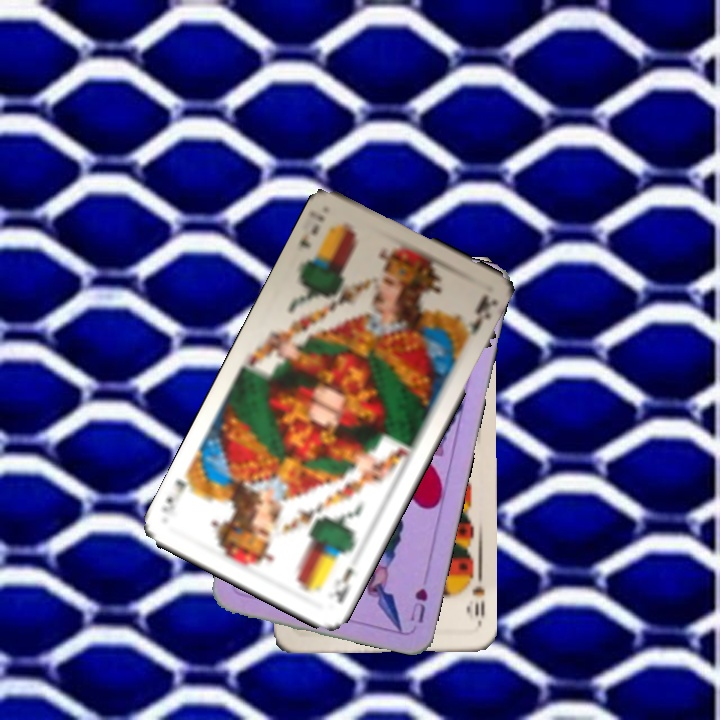EK: (323, 563, 357, 607), (295, 209, 328, 251)
HU: (406, 584, 430, 626)
S10: (468, 569, 487, 619)
